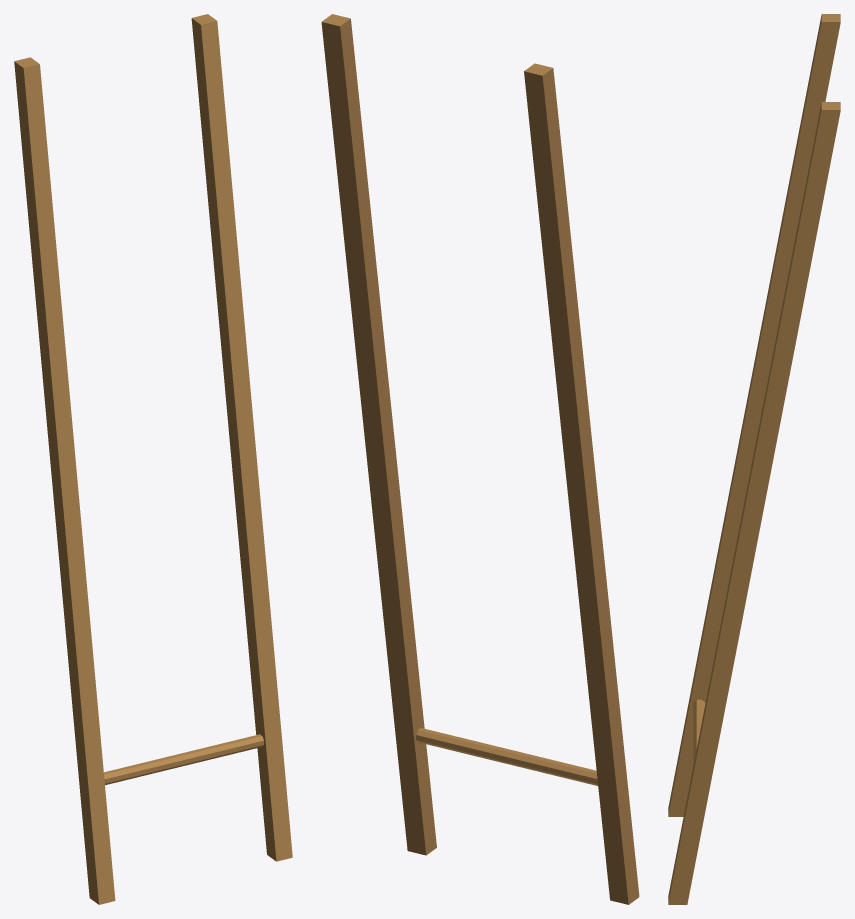
The picture shows the model from 3 angles, left to right: view 1: azimuth 30°, elevation 25°; view 2: azimuth 150°, elevation 25°; view 3: azimuth 270°, elevation 25°; orthographic projection. The views are drawn at different scales.
Visible parts, largest first — view 1: RailLeft, RailRight, Rung; view 2: RailLeft, RailRight, Rung; view 3: RailRight, RailLeft, Rung.
Part boxes in pixels (<box>): RailLeft: <box>14,57,115,904</box>; RailRight: <box>191,14,292,861</box>; Rung: <box>104,734,263,785</box>; RailLeft: <box>524,63,639,904</box>; RailRight: <box>321,14,436,855</box>; Rung: <box>416,728,597,785</box>; RailRight: <box>668,102,840,904</box>; RailLeft: <box>668,14,840,816</box>; Rung: <box>693,699,705,765</box>.
Size of the model in its own units: 0.415 by 1.6 by 0.315.
